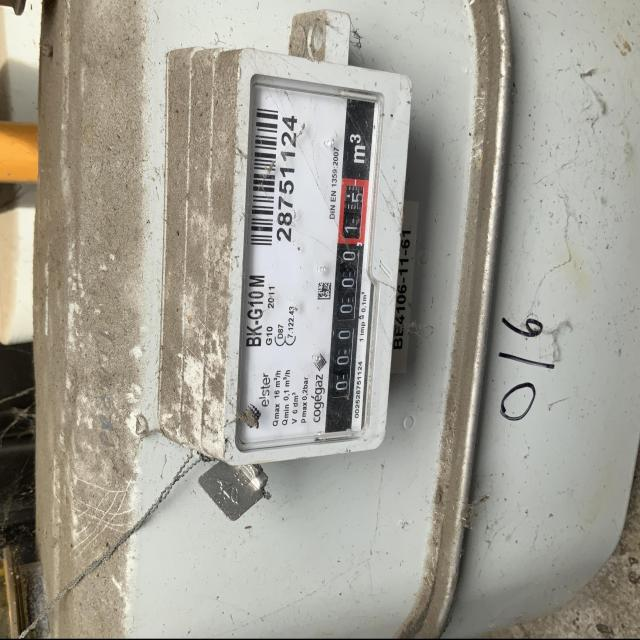gaz_meter: (238, 52, 388, 447)
indication: (327, 177, 369, 398)
